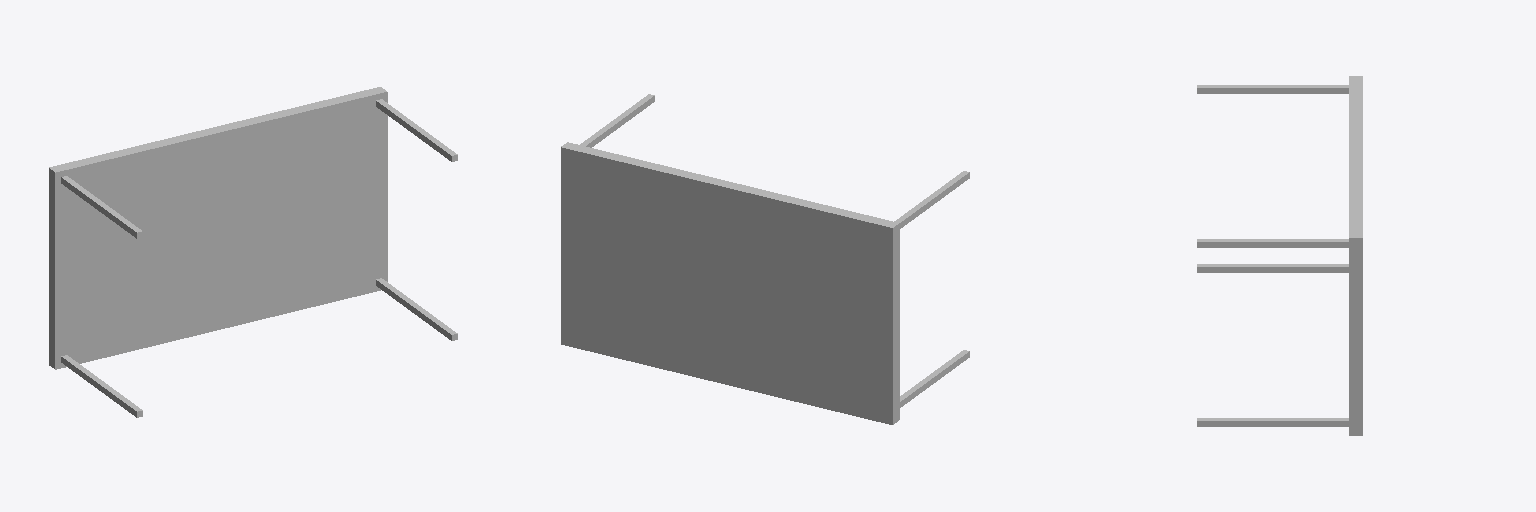
The model's file is random_table63.obj.
The picture shows the model from 3 angles: view 1: azimuth 30°, elevation 25°; view 2: azimuth 150°, elevation 25°; view 3: azimuth 270°, elevation 25°; orthographic projection.
Parts seen in each view (by area): view 1: Table_Cube.1380, TableLeg0_Cube.1381, TableLeg1_Cube.1382, TableLeg2_Cube.1383, TableLeg3_Cube.1384; view 2: Table_Cube.1380, TableLeg1_Cube.1382, TableLeg3_Cube.1384, TableLeg0_Cube.1381; view 3: Table_Cube.1380, TableLeg0_Cube.1381, TableLeg1_Cube.1382, TableLeg2_Cube.1383, TableLeg3_Cube.1384.
Part boxes in pixels (x1,y1,x2,y2): Table_Cube.1380: (49, 87, 387, 369); TableLeg0_Cube.1381: (376, 99, 457, 161); TableLeg1_Cube.1382: (61, 176, 142, 238); TableLeg2_Cube.1383: (376, 278, 457, 340); TableLeg3_Cube.1384: (61, 355, 142, 417); Table_Cube.1380: (561, 142, 899, 424); TableLeg1_Cube.1382: (894, 171, 969, 228); TableLeg3_Cube.1384: (900, 350, 969, 407); TableLeg0_Cube.1381: (580, 94, 654, 147); Table_Cube.1380: (1349, 76, 1362, 435); TableLeg0_Cube.1381: (1197, 239, 1348, 247); TableLeg1_Cube.1382: (1197, 85, 1348, 93); TableLeg2_Cube.1383: (1197, 418, 1348, 426); TableLeg3_Cube.1384: (1197, 264, 1348, 272).
Bounding box in the file's own units: 8.5 × 4.83 × 3.67.